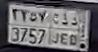3: (10, 7, 20, 43)
5: (29, 10, 37, 45)
7: (19, 8, 28, 43), (38, 9, 46, 46)
D: (69, 16, 79, 48)
E: (60, 17, 68, 47)
J: (51, 11, 60, 45)
